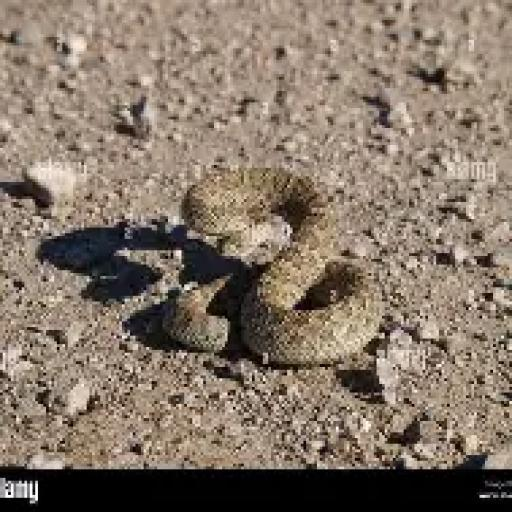snake: (163, 168, 381, 366)
